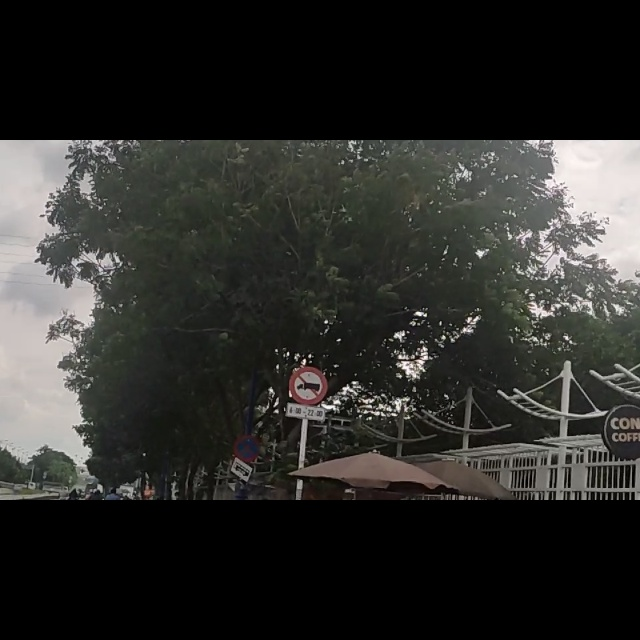bien_cam: (288, 405, 326, 498)
